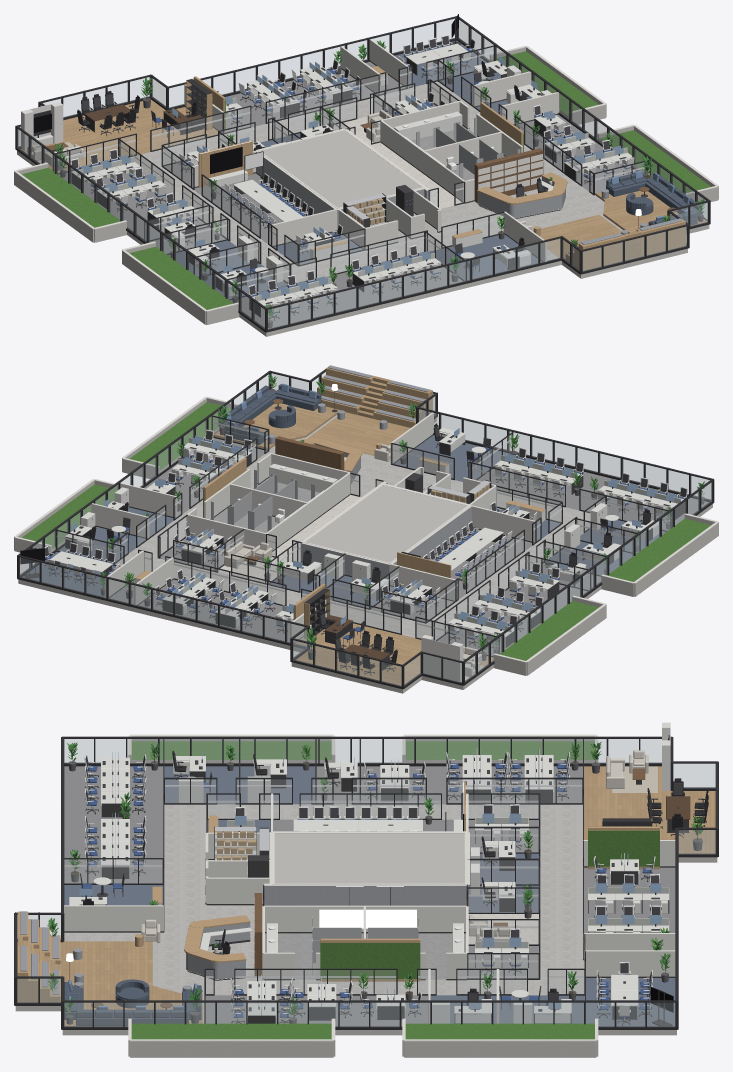
File: office.glb
The picture shows the model from 3 angles, top to bottom: view 1: azimuth 30°, elevation 25°; view 2: azimuth 150°, elevation 25°; view 3: azimuth 270°, elevation 25°; orthographic projection. The views are drawn at different scales.
Parts seen in each view (by area): view 1: architecture, core, bleachers, wc, feature_shelves, reception, tv_wall, tvcabinet2.6, platform, bench4d.001, bench4d, bench3d (+15 smaller); view 2: architecture, core, bleachers, wc, platform, tvcabinet2.6, bench4d.001, bench4d, feature_shelves, bench3d.001, bench3d, table_meeting6.2desk_white (+18 smaller); view 3: architecture, core, green_wall.001, wc, bleachers, reception, green_wall, sofalounge5.4sofa_slate, bench4d.001, bench4d, bench3d, table_meeting6.2desk_white (+27 smaller).
Boxes of the visible parts, x1,y1,x2,y2 form: architecture: (14, 16, 718, 336); core: (258, 129, 423, 208); bleachers: (565, 218, 685, 270); wc: (394, 111, 520, 178); feature_shelves: (474, 148, 543, 203); reception: (477, 172, 567, 218); tv_wall: (198, 140, 252, 187); tvcabinet2.6: (21, 102, 63, 150); platform: (595, 190, 707, 233); bench4d.001: (352, 251, 440, 291); bench4d: (249, 276, 337, 317); bench3d: (247, 75, 300, 118); architecture: (14, 369, 718, 693); core: (303, 484, 469, 563); bleachers: (317, 365, 432, 427); wc: (211, 463, 337, 531); platform: (213, 403, 339, 449); tvcabinet2.6: (421, 635, 463, 681); bench4d.001: (495, 453, 583, 494); bench4d: (598, 478, 684, 519); feature_shelves: (275, 436, 344, 470); bench3d.001: (162, 572, 215, 615); bench3d: (215, 585, 268, 628); table_meeting6.2desk_white: (438, 527, 503, 570); architecture: (14, 734, 718, 1057); core: (272, 832, 466, 905); green_wall.001: (320, 938, 420, 981); wc: (266, 909, 463, 975); bleachers: (17, 911, 60, 1002); reception: (184, 915, 252, 980); green_wall: (588, 826, 659, 869); sofalounge5.4sofa_slate: (76, 1005, 188, 1025); bench4d.001: (101, 812, 129, 878); bench4d: (101, 751, 129, 817); bench3d: (588, 883, 669, 913); table_meeting6.2desk_white: (293, 819, 422, 831).
Bounding box in the file's own units: 34.67 × 2.72 × 33.75.
Materials: 50 (14 with a texture image).
